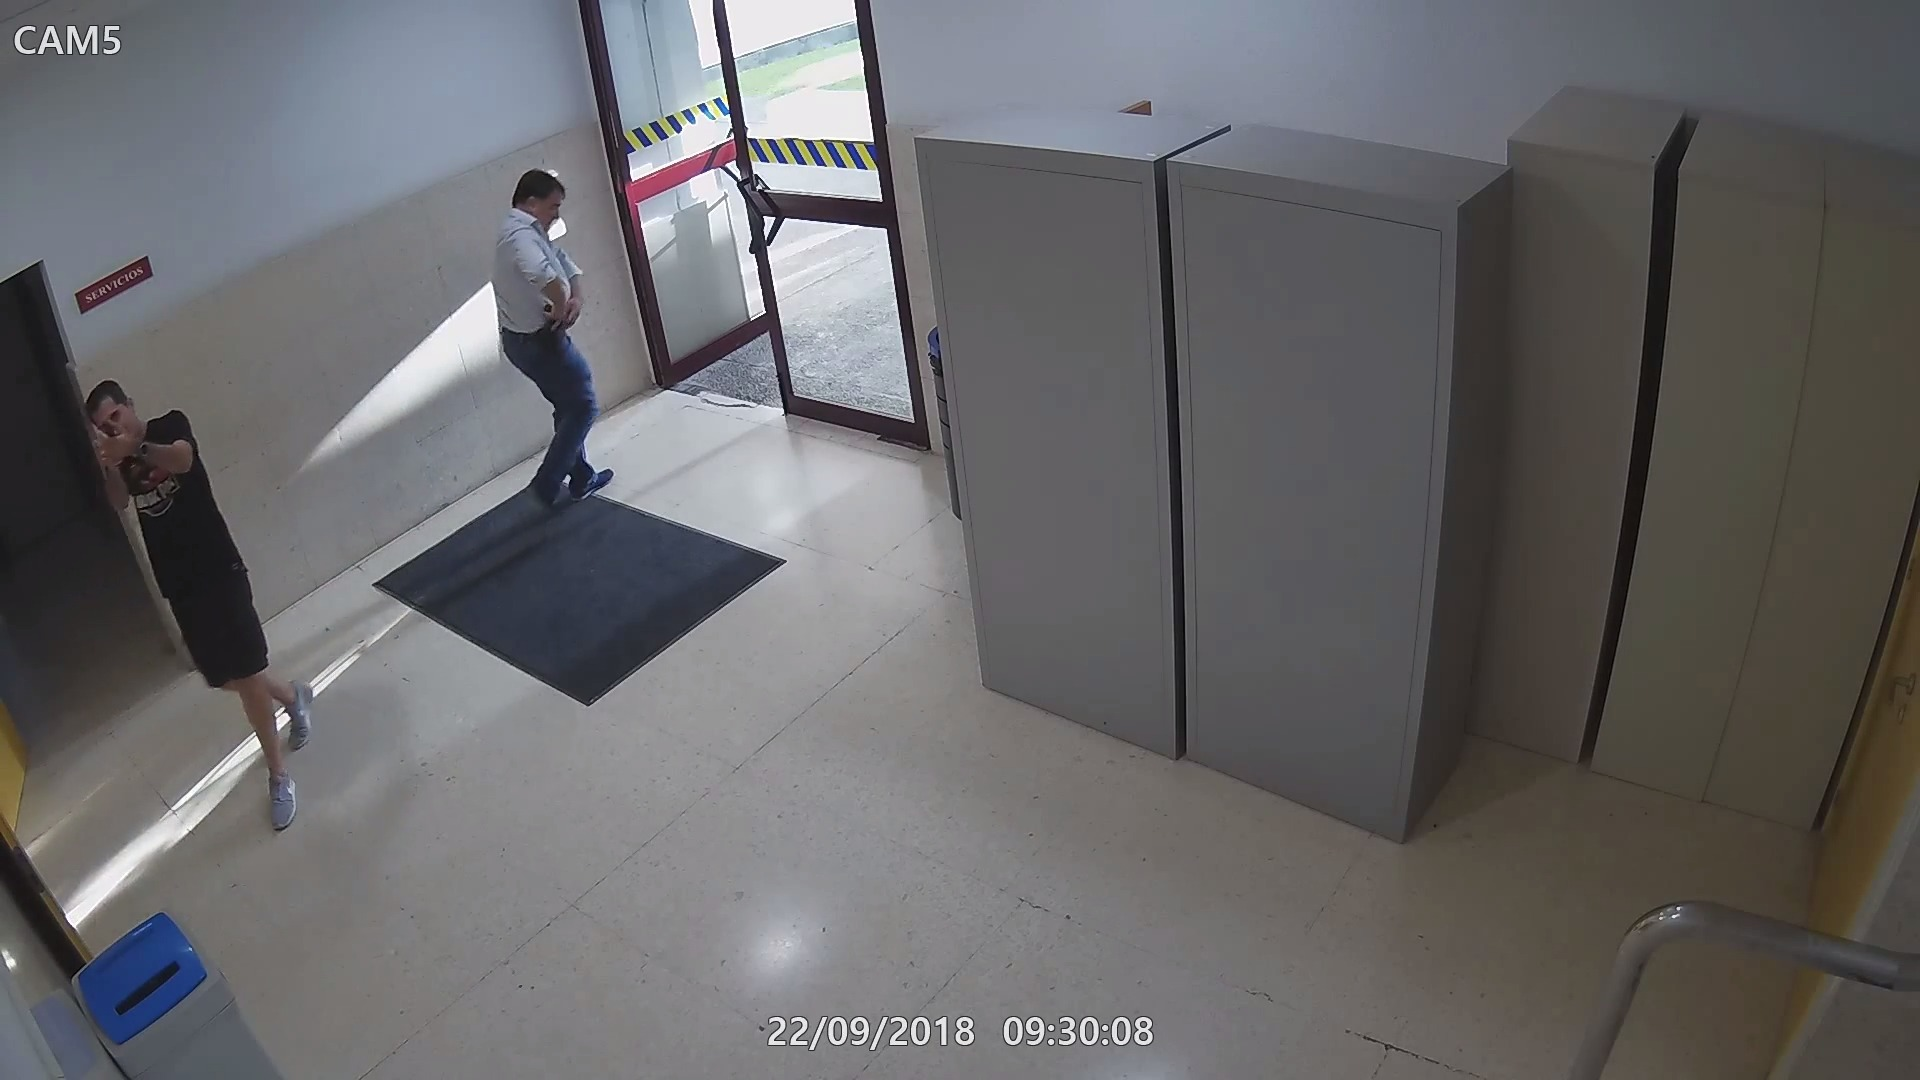Handgun: (92, 419, 129, 473), (538, 301, 579, 334)
